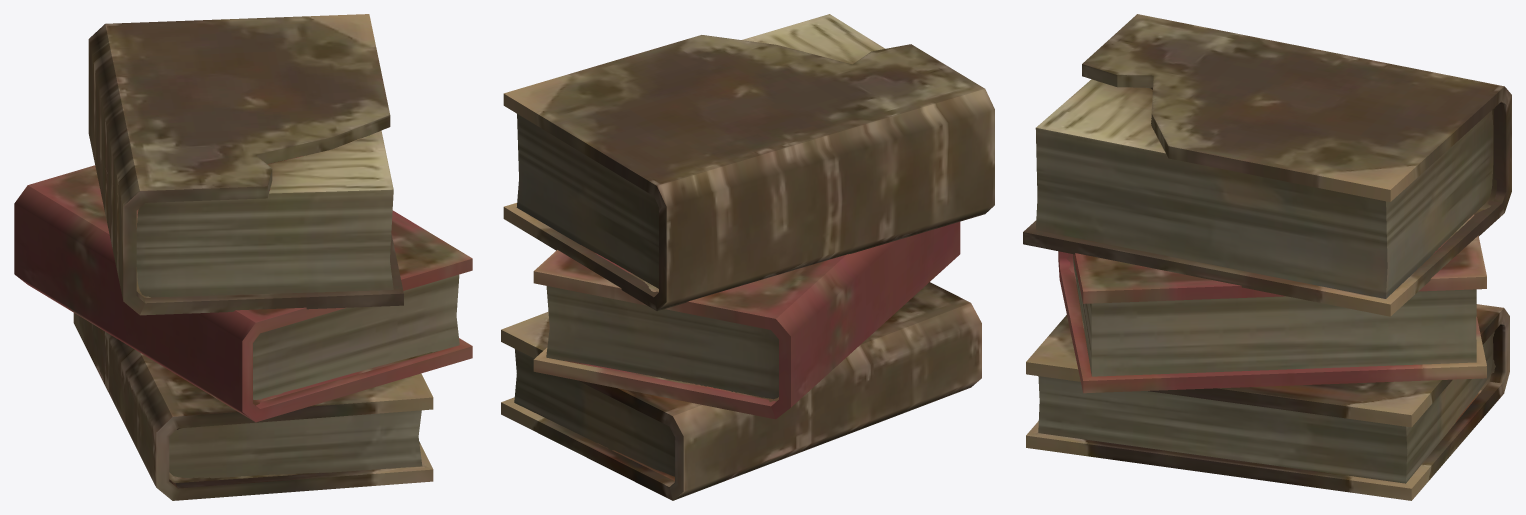
3 views of the same model, side by side, from view 1: azimuth 30°, elevation 25°; view 2: azimuth 150°, elevation 25°; view 3: azimuth 270°, elevation 25° (orthographic).
Parts seen in each view (by area): view 1: SM_DR_BookStack_10_LOD0; view 2: SM_DR_BookStack_10_LOD0; view 3: SM_DR_BookStack_10_LOD0.
Boxes of the visible parts, box(x1,y1,x2,y2) form: SM_DR_BookStack_10_LOD0: box(14, 14, 472, 500); SM_DR_BookStack_10_LOD0: box(501, 14, 994, 500); SM_DR_BookStack_10_LOD0: box(1023, 14, 1511, 500).
Bounding box in the file's own units: 0.4074 × 0.3278 × 0.4612.
1 material, 1 textured.
